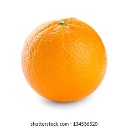orange: (19, 16, 109, 104)
